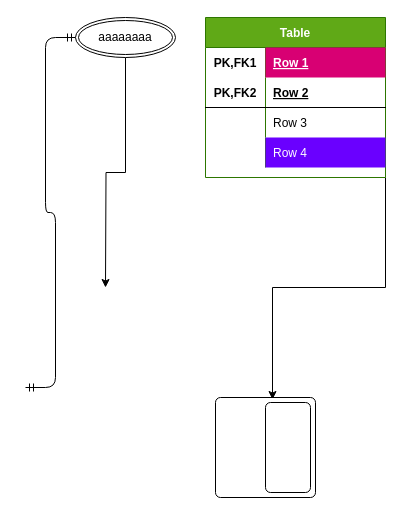
This 411x515 diagram has some shape labels left out. Here are the shapes that lost their labels. From the top down, the centre of each, then its label:
[240,447]: main
[287,447]: sub
